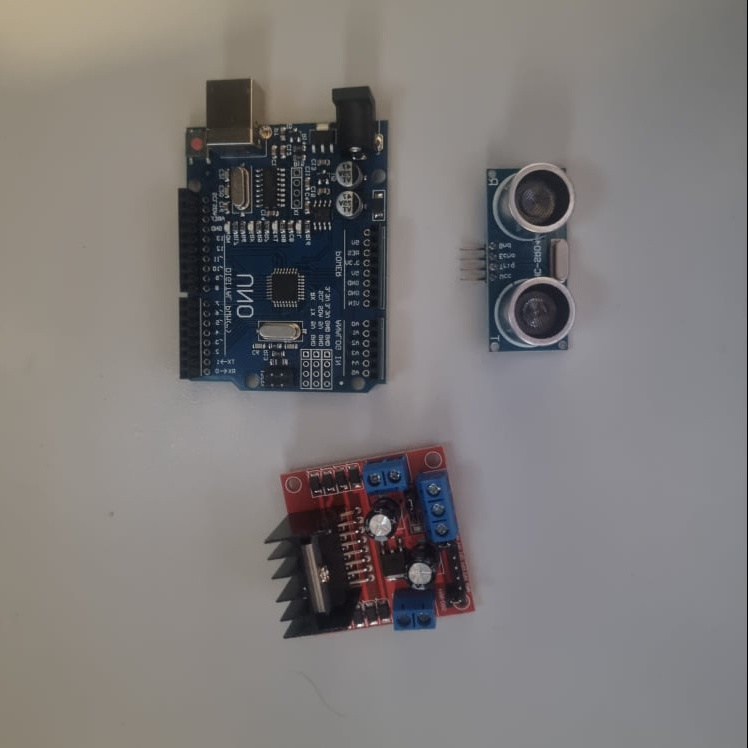MOTOR: (268, 443, 478, 647)
SENSOR: (457, 165, 584, 356)
UNO R3: (176, 79, 393, 396)
